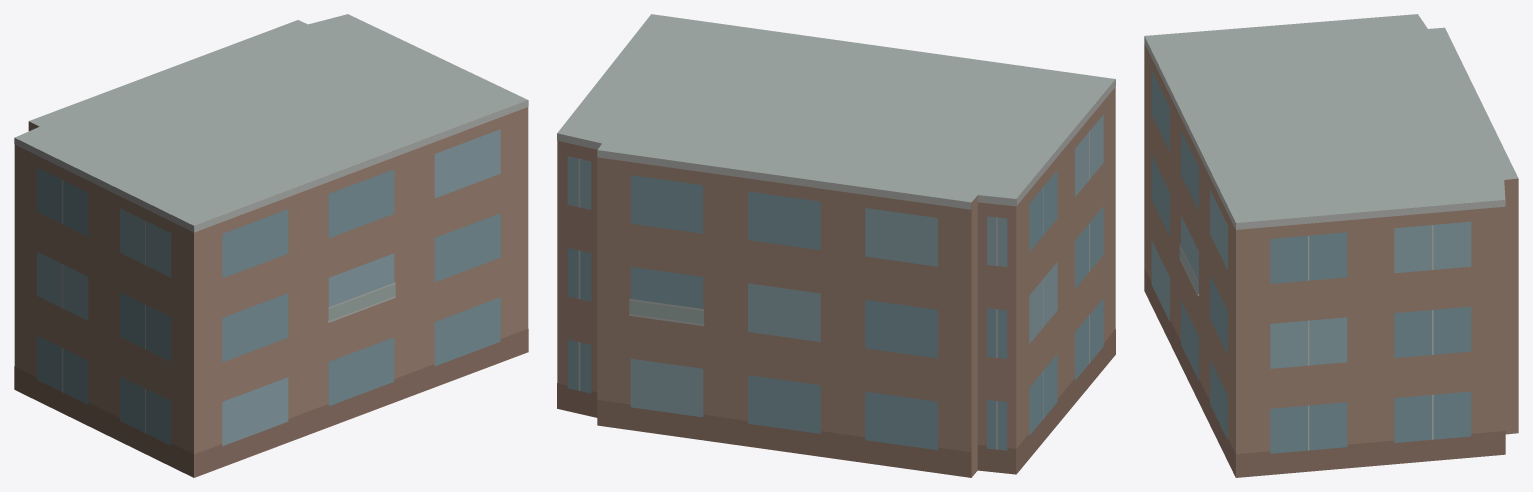
File: survey-upis-32749813.glb
3 views of the same model, side by side, from view 1: azimuth 30°, elevation 25°; view 2: azimuth 150°, elevation 25°; view 3: azimuth 270°, elevation 25° (orthographic). The views are drawn at different scales.
Parts seen in each view (by area): view 1: survey-upis-32749813.tmp; view 2: survey-upis-32749813.tmp; view 3: survey-upis-32749813.tmp.
Boxes of the visible parts, bbox=[...] form: survey-upis-32749813.tmp: bbox=[14, 14, 528, 477]; survey-upis-32749813.tmp: bbox=[557, 14, 1115, 477]; survey-upis-32749813.tmp: bbox=[1144, 14, 1518, 477].
Size of the model in its own units: 16.12 by 9.15 by 12.2.
